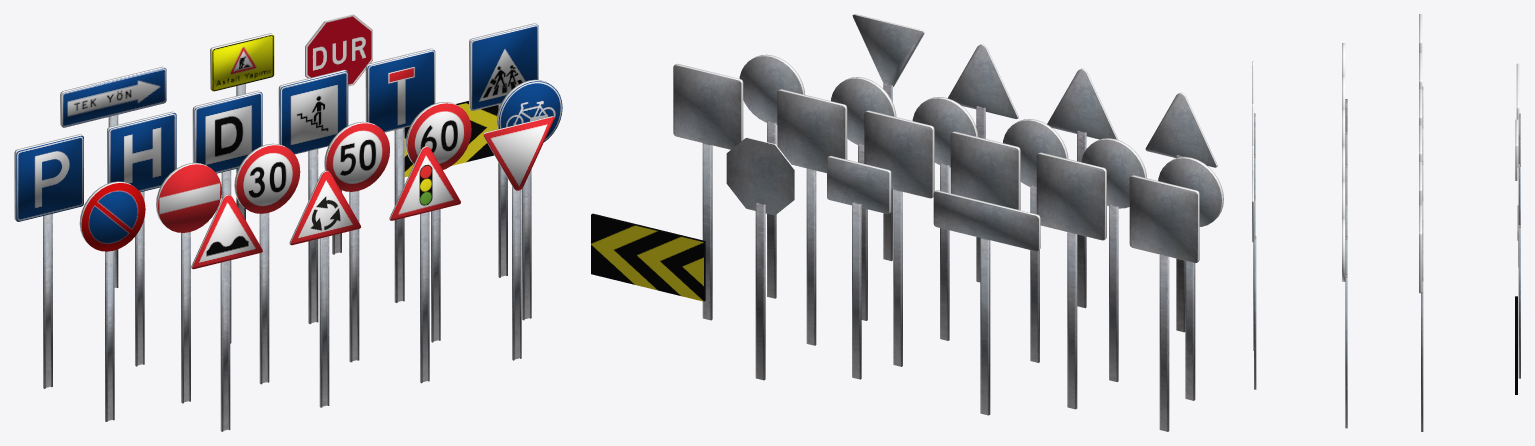
File: traffic_signs.glb
3 renders of one model, left to right at view 1: azimuth 30°, elevation 25°; view 2: azimuth 150°, elevation 25°; view 3: azimuth 270°, elevation 25°, orthographic. The views are drawn at different scales.
Visible parts, largest first — view 1: SM_Plate_12_8, SM_Plate_16_12, SM_Plate_15_11, SM_Plate_13_9, SM_Plate_16.001_16, SM_Plate_9_6, SM_Plate_19_15, SM_Plate_10_7, SM_Plate_8_5, SM_Plate_14_10, SM_Plate_2_1, SM_Plate_1_0 (+8 smaller); view 2: SM_Plate_12_8, SM_Plate_13_9, Cube.002_19, SM_Plate_16.001_16, SM_Plate_16_12, SM_Plate_15_11, SM_Plate_18_14, SM_Plate_3.001_17, SM_Plate_17_13, SM_Plate_14_10, SM_Plate_10_7, SM_Plate_6_3 (+8 smaller); view 3: SM_Plate_16.001_16, SM_Plate_6_3, Cube_18, SM_Plate_3.001_17, SM_Plate_17_13, SM_Plate_18_14, Cube.002_19, SM_Plate_7_4, SM_Plate_9_6, SM_Plate_16_12.
Part boxes in pixels (x1,y1,x2,y2): SM_Plate_12_8: (14, 134, 83, 388); SM_Plate_16_12: (365, 48, 435, 302); SM_Plate_15_11: (278, 69, 348, 323); SM_Plate_13_9: (107, 111, 176, 366); SM_Plate_16.001_16: (469, 23, 538, 277); SM_Plate_9_6: (234, 143, 300, 384); SM_Plate_19_15: (79, 181, 145, 421); SM_Plate_10_7: (156, 163, 221, 403); SM_Plate_8_5: (324, 121, 389, 362); SM_Plate_14_10: (192, 90, 262, 343); SM_Plate_2_1: (289, 170, 361, 407); SM_Plate_1_0: (191, 194, 262, 431); SM_Plate_12_8: (1129, 175, 1199, 431); SM_Plate_13_9: (1036, 152, 1106, 409); Cube.002_19: (591, 213, 705, 301); SM_Plate_16.001_16: (673, 63, 743, 320); SM_Plate_16_12: (777, 89, 847, 345); SM_Plate_15_11: (864, 110, 934, 366); SM_Plate_18_14: (933, 190, 1040, 415); SM_Plate_3.001_17: (726, 137, 794, 380); SM_Plate_17_13: (827, 156, 891, 379); SM_Plate_14_10: (950, 131, 1020, 239); SM_Plate_10_7: (1081, 138, 1146, 381); SM_Plate_6_3: (739, 54, 805, 298); SM_Plate_16.001_16: (1419, 205, 1423, 431); SM_Plate_6_3: (1342, 218, 1347, 428); Cube_18: (1252, 171, 1256, 389); SM_Plate_3.001_17: (1517, 167, 1520, 378); SM_Plate_17_13: (1515, 119, 1520, 224); SM_Plate_18_14: (1516, 63, 1520, 267); Cube.002_19: (1515, 296, 1517, 394); SM_Plate_7_4: (1342, 180, 1347, 274); SM_Plate_9_6: (1342, 108, 1347, 201); SM_Plate_16_12: (1419, 161, 1423, 277).
Size of the model in its own units: 167 by 72.74 by 81.94.
1 material, 1 textured.
